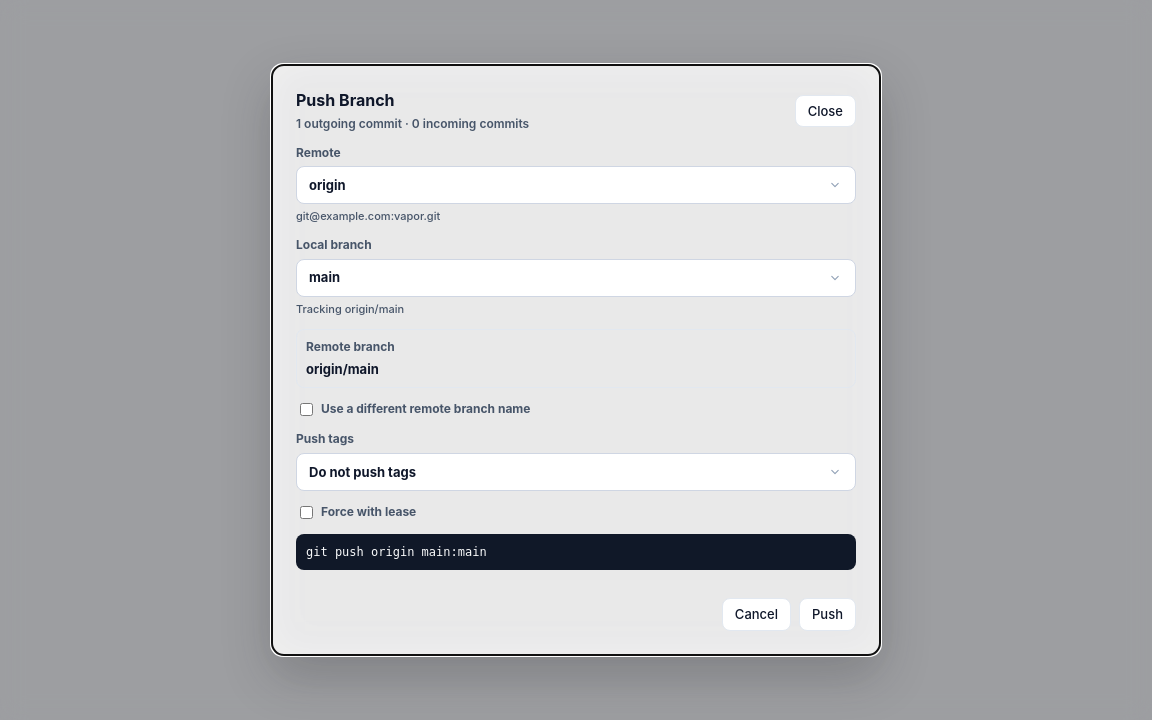
Scenario: PushDialog › updates remote defaults while keeping the target branch equal to the local branch
The width and height of the screenshot is (1152, 720).
Select "feature/source-tree" in the dropdown labelled "Local branch" at (576, 278), box [296, 258, 856, 296]
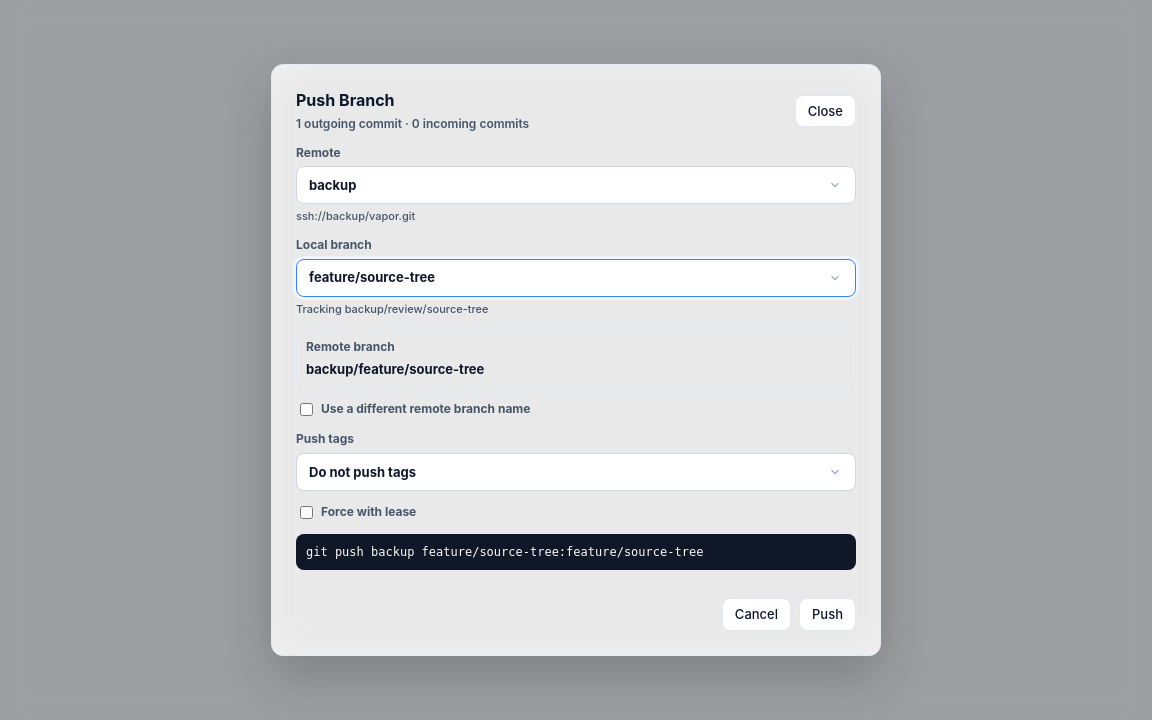
Now the text "backup/feature/source-tree" is shown, box [306, 361, 484, 377]
Now the dropdown showing "backup" is shown, box [296, 166, 856, 204]
